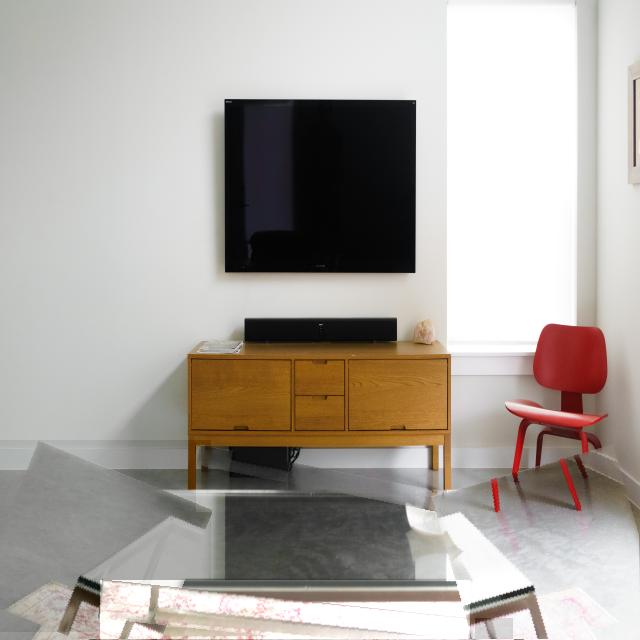floor: (0, 440, 211, 632), (431, 458, 640, 640), (100, 581, 470, 640), (196, 445, 443, 512), (476, 618, 513, 640)
